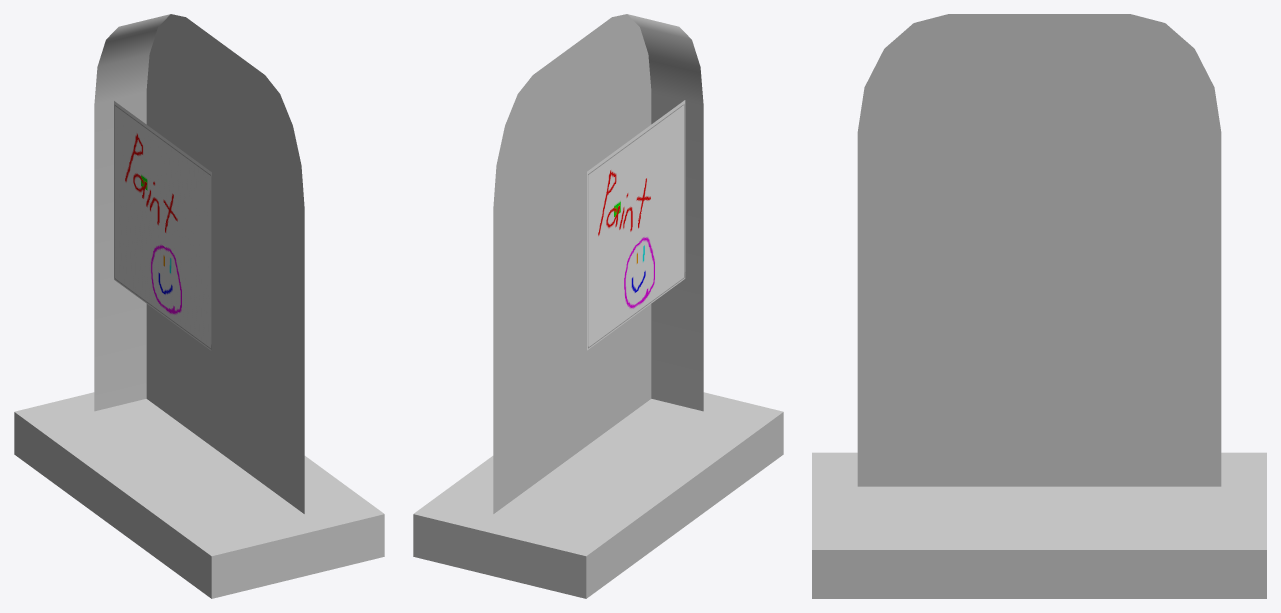
File: PaintBlock.glb
3 views of the same model, side by side, from view 1: azimuth 30°, elevation 25°; view 2: azimuth 150°, elevation 25°; view 3: azimuth 270°, elevation 25° (orthographic). The views are drawn at different scales.
Visible parts, largest first — view 1: Interactive, Screenshot 2026-10-04 133802; view 2: Interactive, Screenshot 2026-10-04 133802; view 3: Interactive.
Part boxes in pixels (bbox=[...]): Interactive: bbox=[14, 14, 384, 598]; Screenshot 2026-10-04 133802: bbox=[114, 101, 211, 350]; Interactive: bbox=[413, 14, 783, 598]; Screenshot 2026-10-04 133802: bbox=[587, 100, 685, 350]; Interactive: bbox=[812, 14, 1266, 598].
Bounding box in the file's own units: 1.01 × 2.53 × 2.
1 material, 1 textured.
